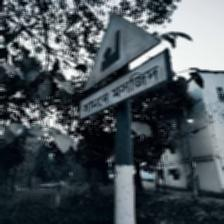Mosque in front: (78, 12, 176, 122)
